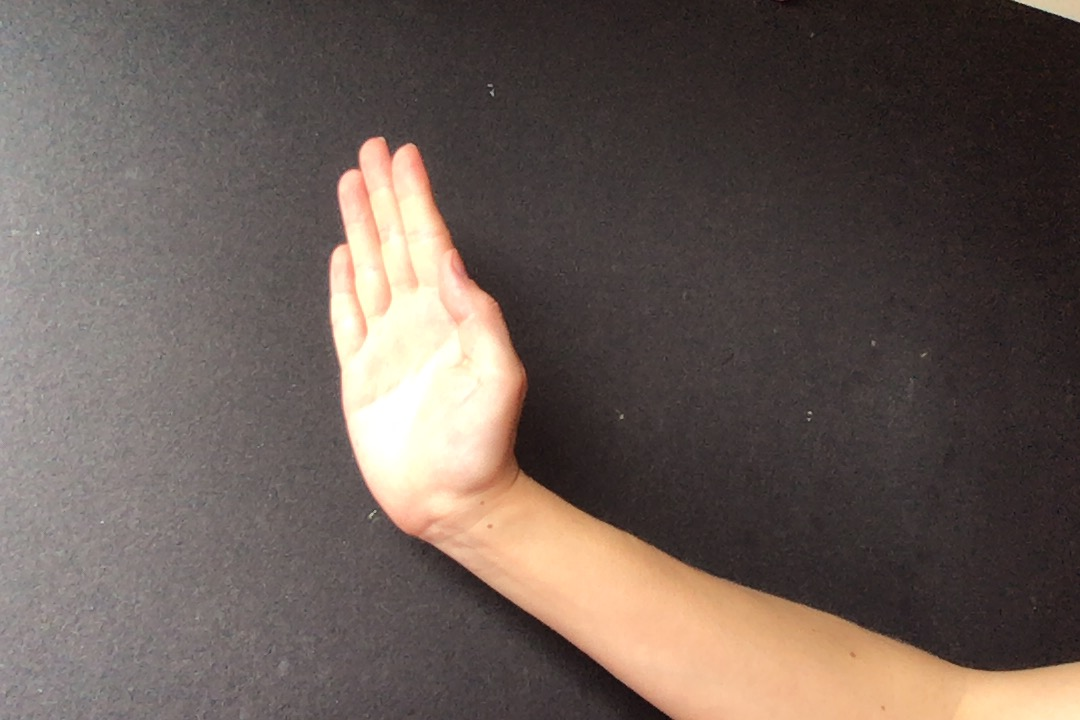palmhand: (311, 133, 536, 547)
